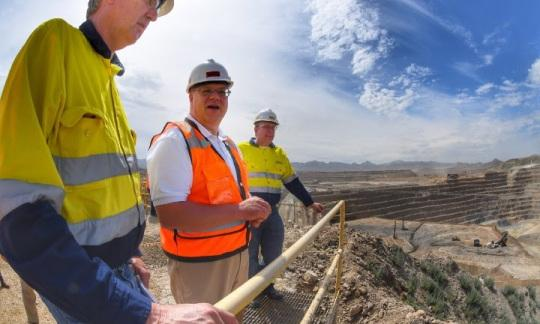helmet: (186, 59, 236, 93), (253, 108, 281, 126)
